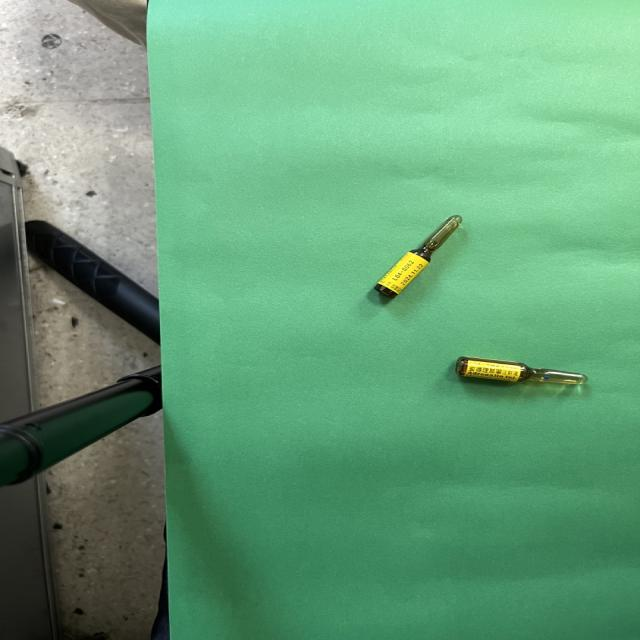Ampoules: (373, 216, 461, 298), (455, 357, 586, 384)
